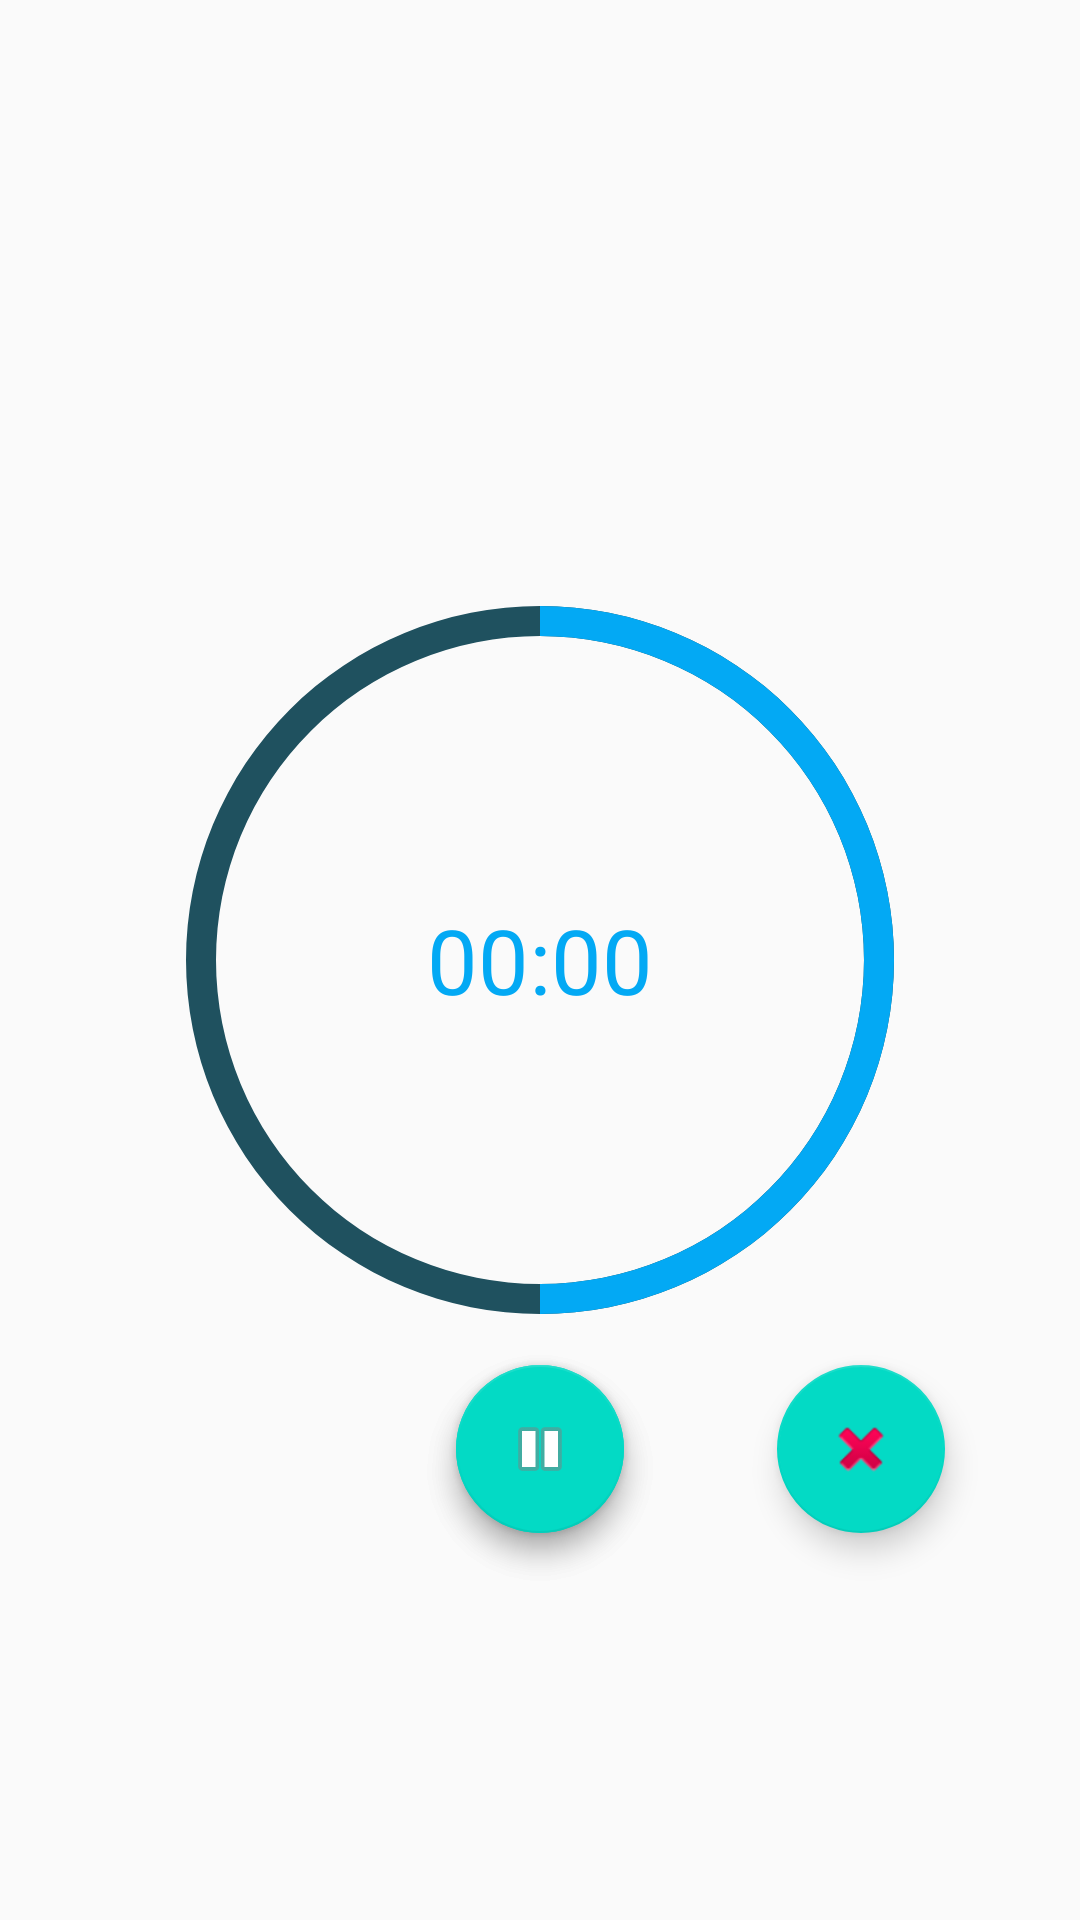

Icons on this 1080x1920 Android screen, each with its box as bbox=(x1, y1, x2, y2):
delete: bbox=(777, 1365, 945, 1533)
